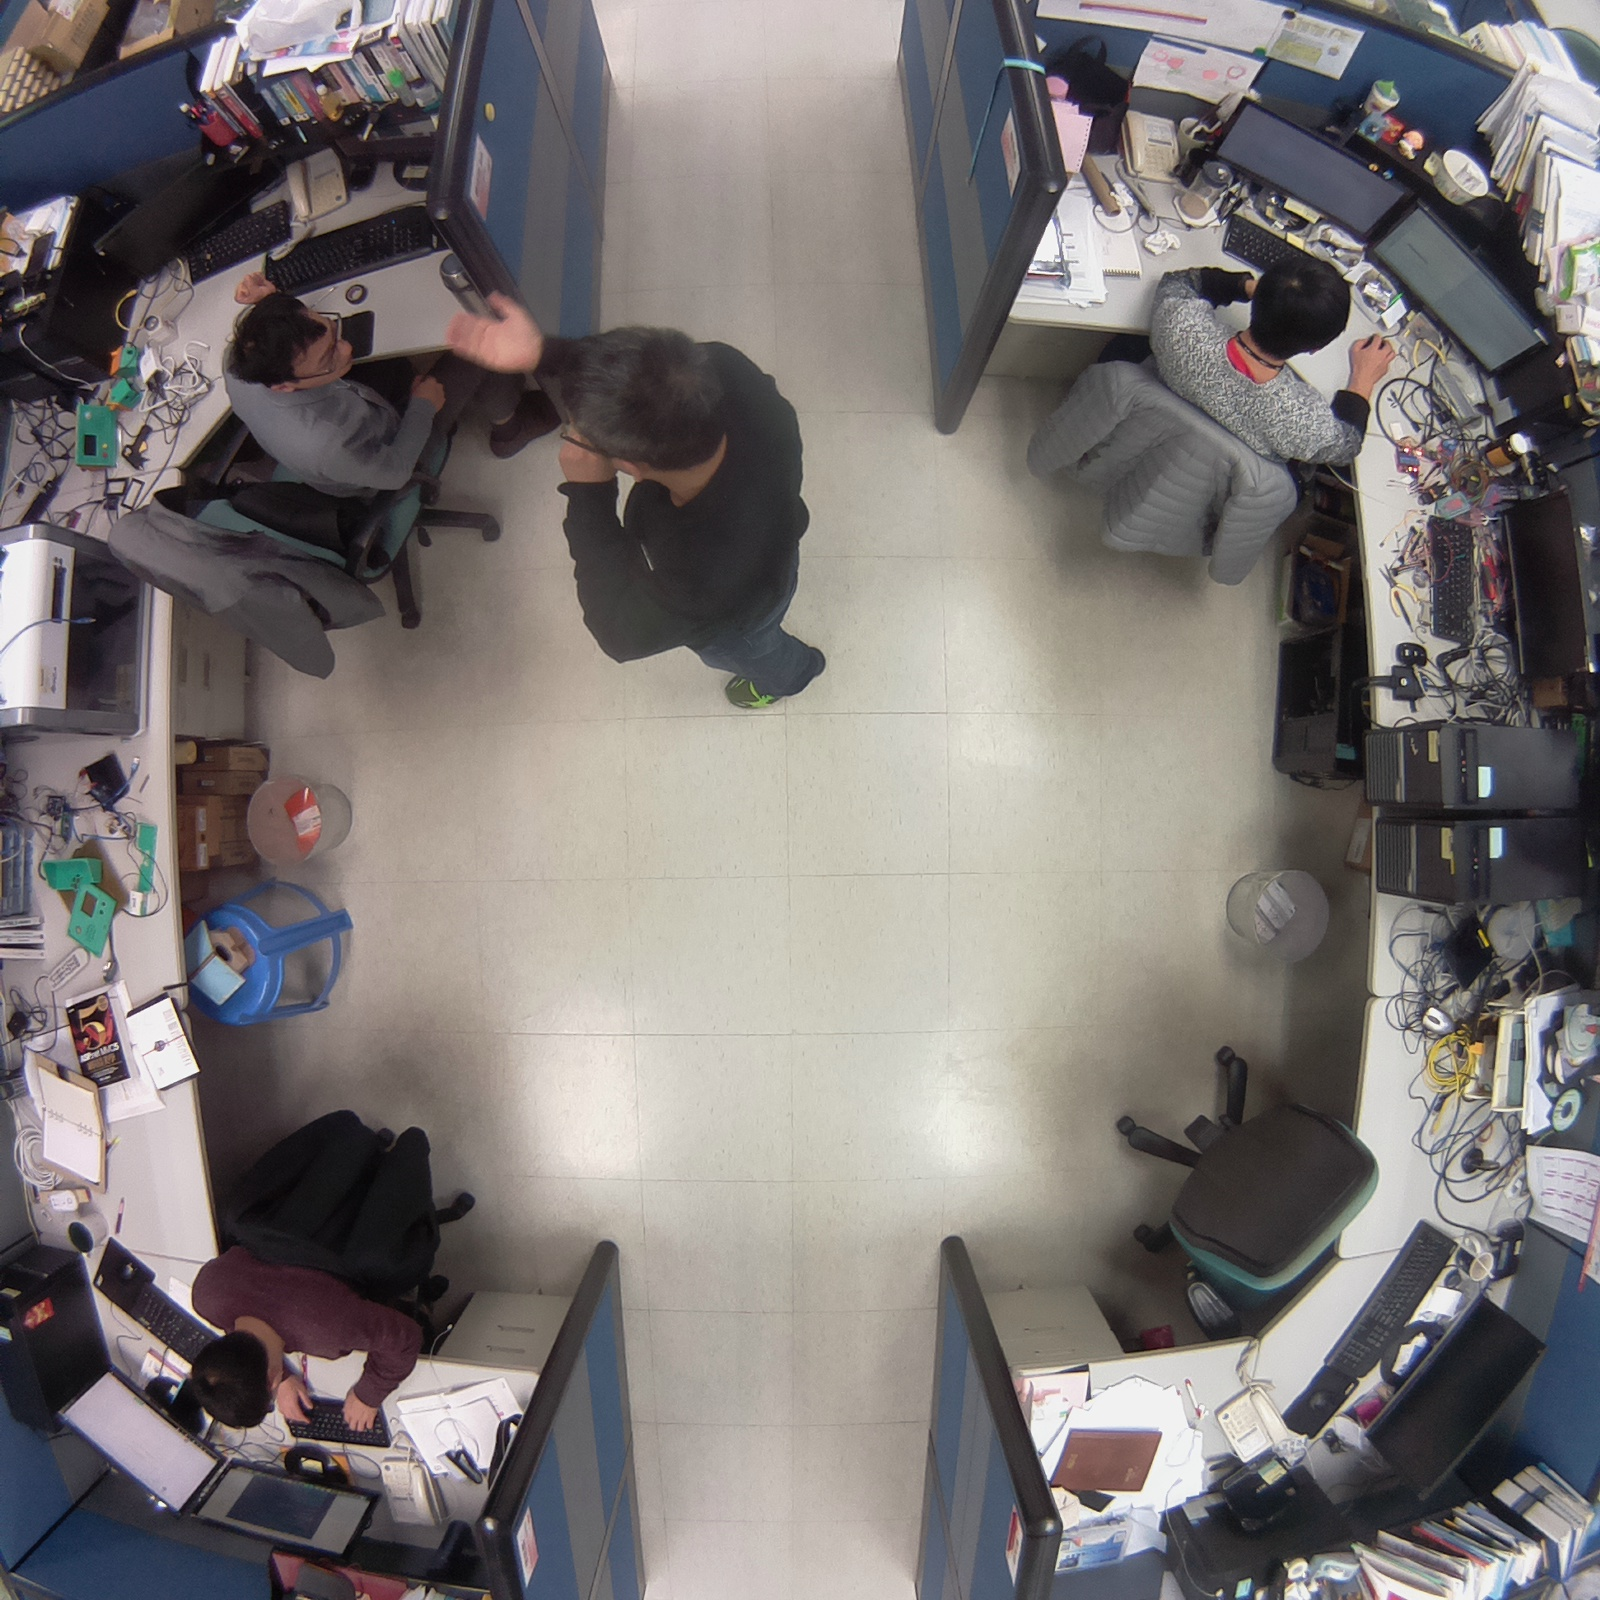chair: (1078, 1027, 1383, 1352)
head: (546, 317, 734, 487), (223, 285, 368, 402), (1246, 251, 1357, 368), (187, 1321, 278, 1436)
sitting: (86, 275, 524, 701), (981, 249, 1399, 622), (175, 1093, 491, 1441)
standing: (539, 311, 850, 740)
